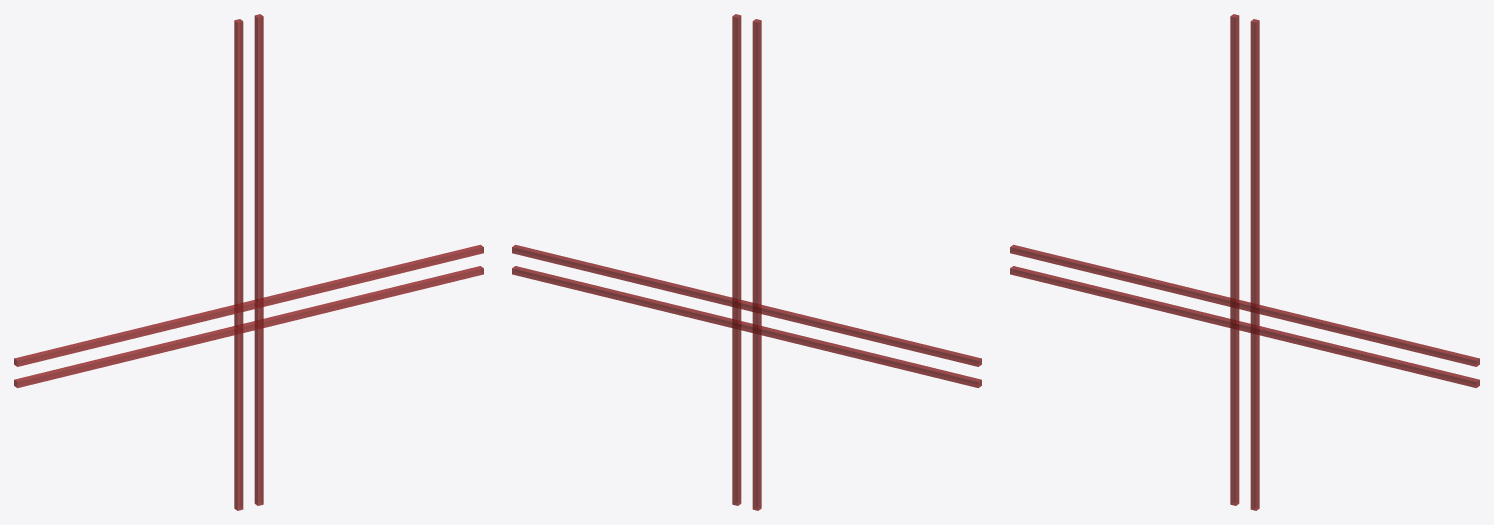
The model's file is Lvl_013.fbx.
The picture shows the model from 3 angles, left to right: view 1: azimuth 30°, elevation 25°; view 2: azimuth 150°, elevation 25°; view 3: azimuth 330°, elevation 25°; orthographic projection.
Parts seen in each view (by area): view 1: pCube7, pCube2, pCube15, pCube14; view 2: pCube7, pCube2, pCube15, pCube14; view 3: pCube2, pCube7, pCube15, pCube14.
Boxes of the visible parts, x1=… form: pCube7: x1=234, y1=19, x2=243, y2=510; pCube2: x1=254, y1=14, x2=263, y2=505; pCube15: x1=14, y1=244, x2=483, y2=366; pCube14: x1=14, y1=266, x2=483, y2=387; pCube7: x1=752, y1=19, x2=761, y2=510; pCube2: x1=732, y1=14, x2=741, y2=505; pCube15: x1=512, y1=244, x2=981, y2=366; pCube14: x1=512, y1=266, x2=981, y2=387; pCube2: x1=1250, y1=19, x2=1259, y2=510; pCube7: x1=1230, y1=14, x2=1239, y2=505; pCube15: x1=1010, y1=244, x2=1479, y2=366; pCube14: x1=1010, y1=266, x2=1479, y2=387.
Size of the model in its own units: 2000 by 2000 by 25.
